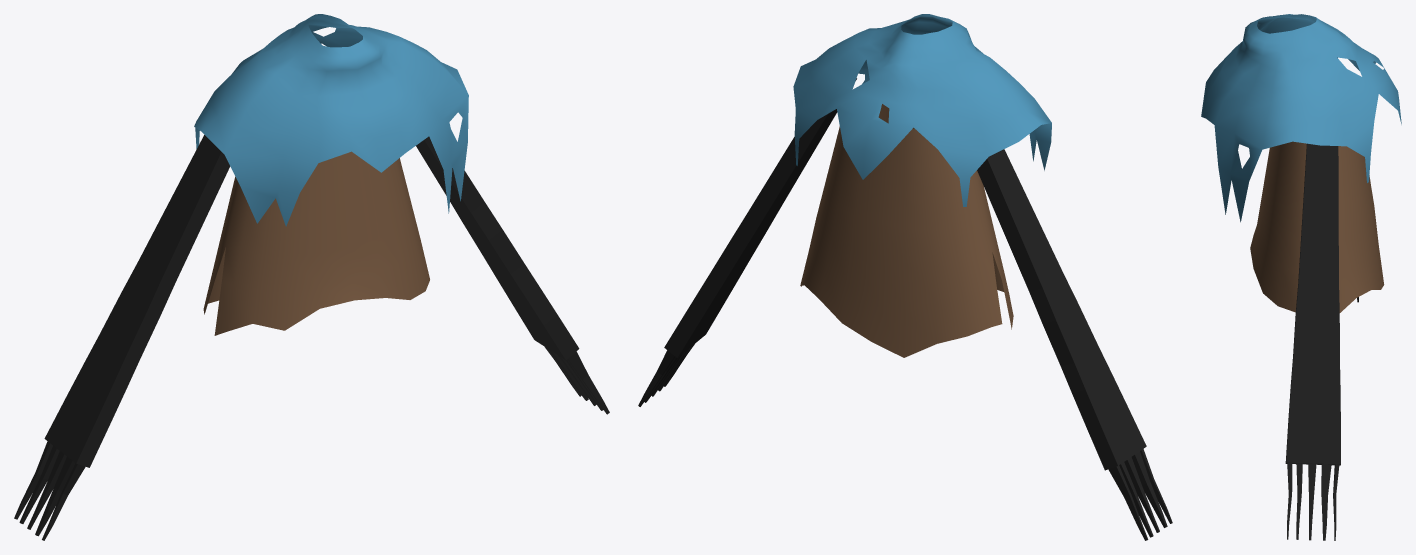
File: clothPiecesTest.fbx
3 renders of one model, left to right at view 1: azimuth 30°, elevation 25°; view 2: azimuth 150°, elevation 25°; view 3: azimuth 270°, elevation 25°, orthographic. The views are drawn at different scales.
Visible parts, largest first — view 1: Cap, Shirt, Scarf, Scarf.001; view 2: Shirt, Cap, Scarf, Scarf.001; view 3: Cap, Scarf.001, Shirt.
Part boxes in pixels (bbox=[...]): Cap: bbox=[194, 14, 468, 226]; Shirt: bbox=[203, 151, 429, 335]; Scarf: bbox=[14, 135, 230, 540]; Scarf.001: bbox=[416, 136, 609, 414]; Shirt: bbox=[800, 104, 1013, 357]; Cap: bbox=[793, 14, 1051, 206]; Scarf: bbox=[977, 149, 1172, 540]; Scarf.001: bbox=[638, 78, 856, 406]; Cap: bbox=[1201, 14, 1401, 222]; Scarf.001: bbox=[1285, 143, 1340, 540]; Shirt: bbox=[1250, 141, 1384, 312].
Size of the model in its own units: 187 by 147 by 66.13.
